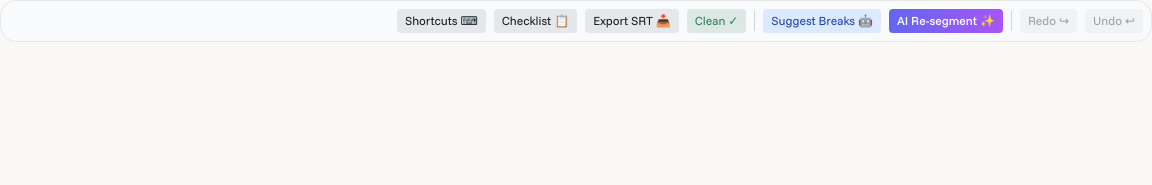
Scenario: the publish checklist › marks the checks a transcript fails
Click the button "📋 Checklist": [535, 21] box [494,9,577,33]
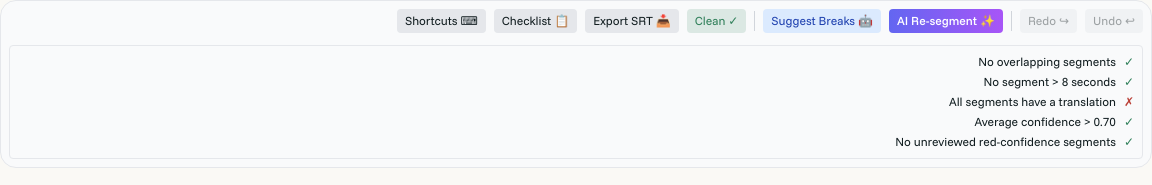
Expected: the element showing "✗ All segments have a translation" is shown, [949,94,1134,109]
